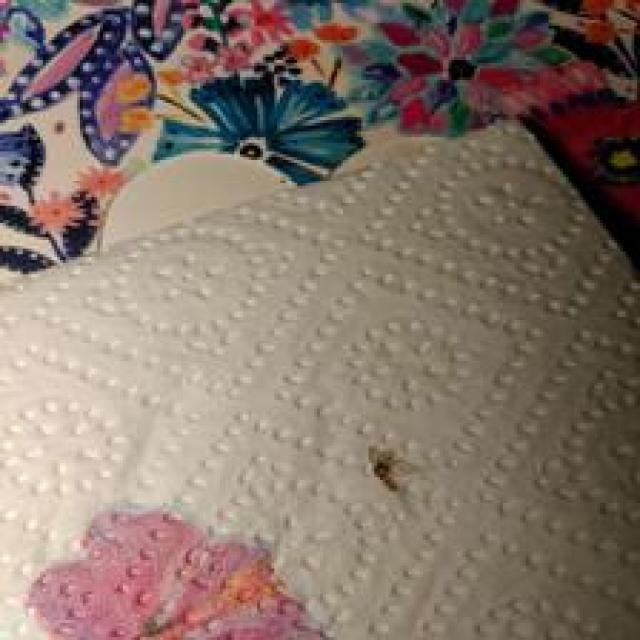Culex: (151, 56, 366, 187)
